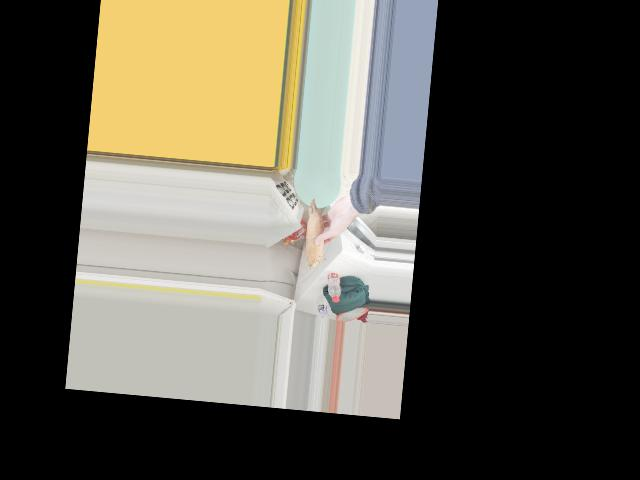sweet_potato: (302, 202, 330, 264)
